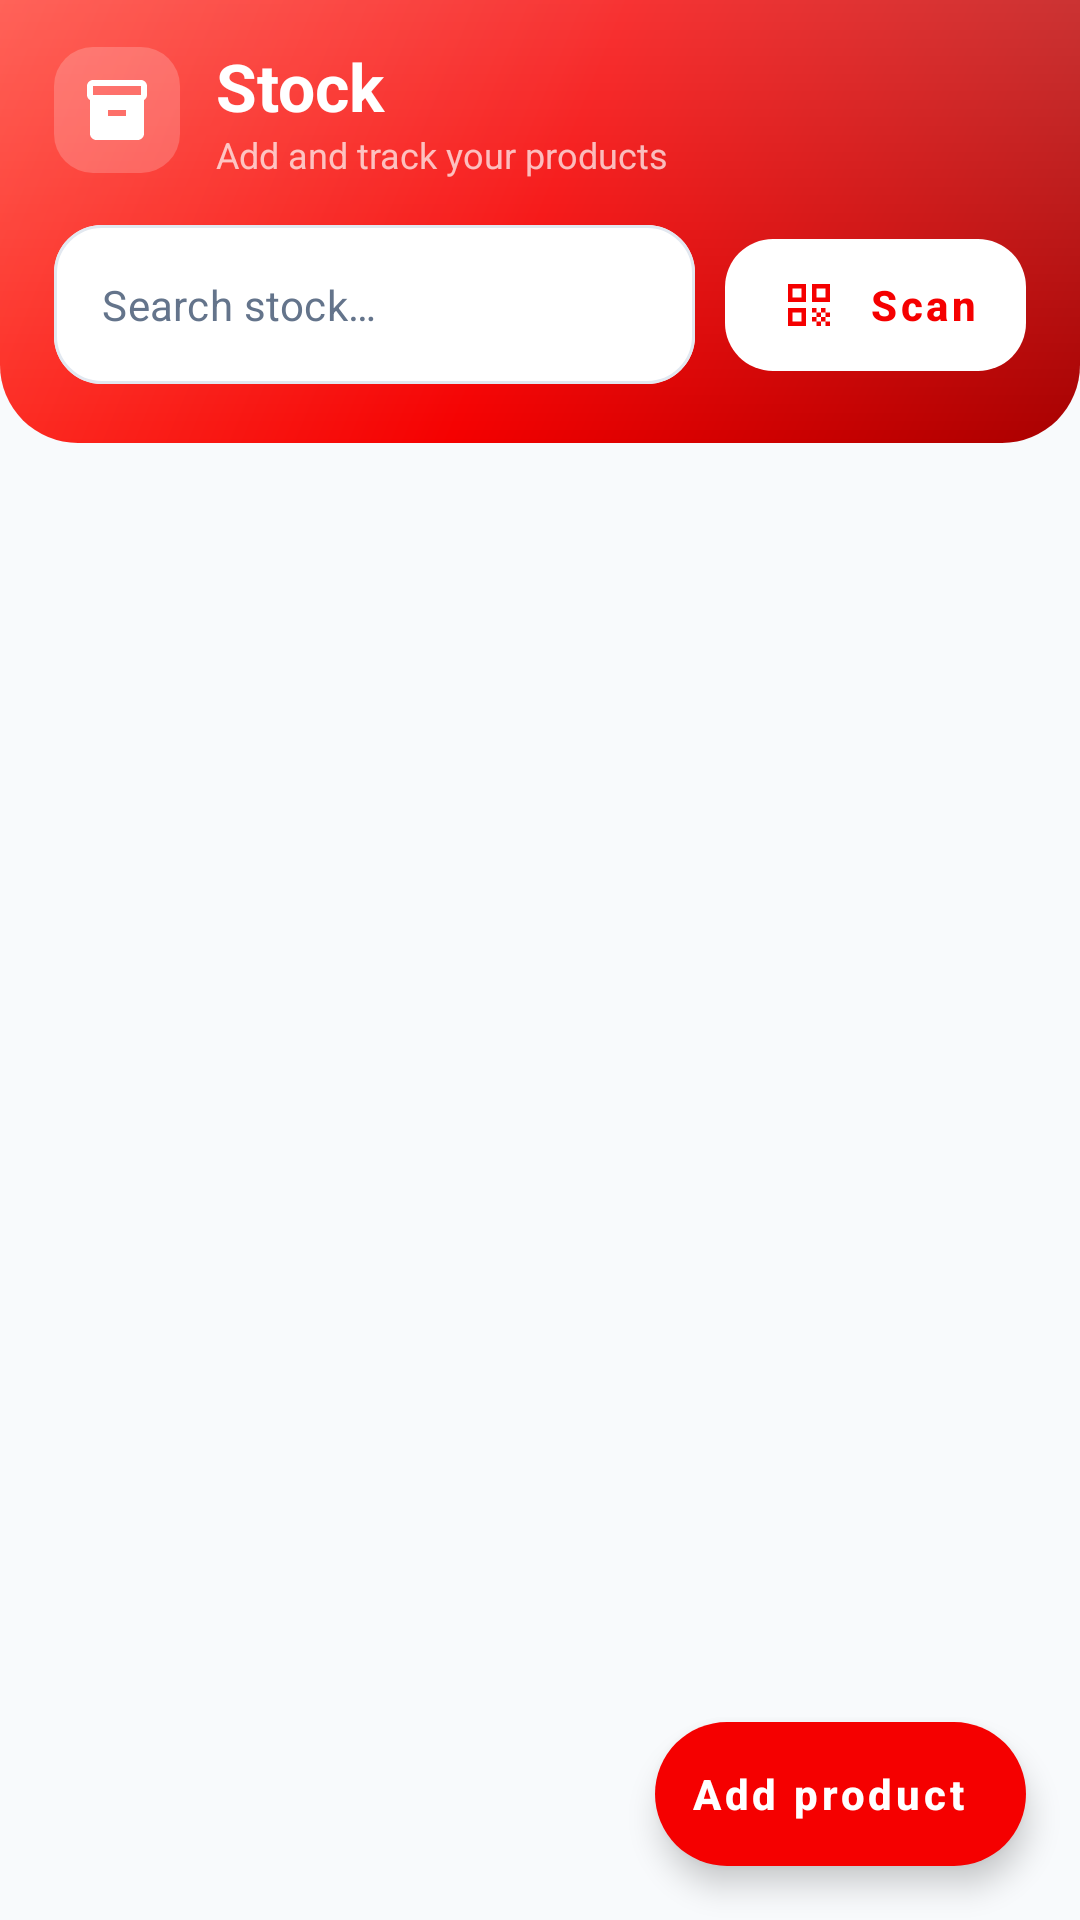

Icons on this 1080w x 1920h Android screen, each with the point to tap as point (x, y):
inventory: point (117, 110)
